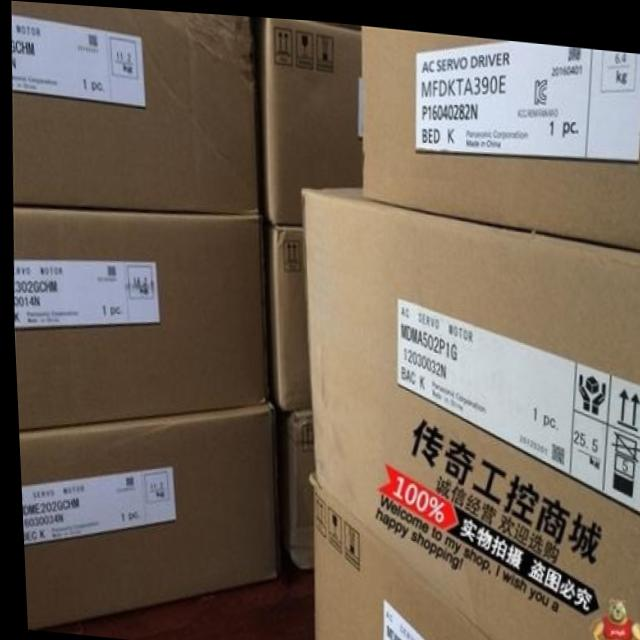box: (299, 180, 587, 640), (11, 208, 265, 430), (15, 397, 272, 616), (11, 1, 258, 208), (359, 22, 587, 232), (306, 472, 490, 640), (248, 13, 363, 221), (258, 210, 309, 408), (281, 404, 309, 564)
